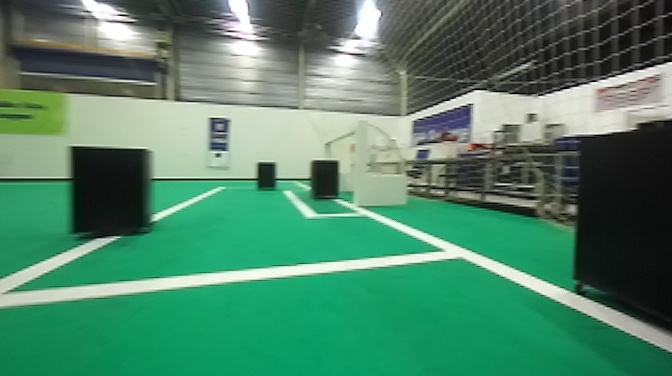goalpost: (351, 124, 363, 206), (323, 140, 332, 157)
